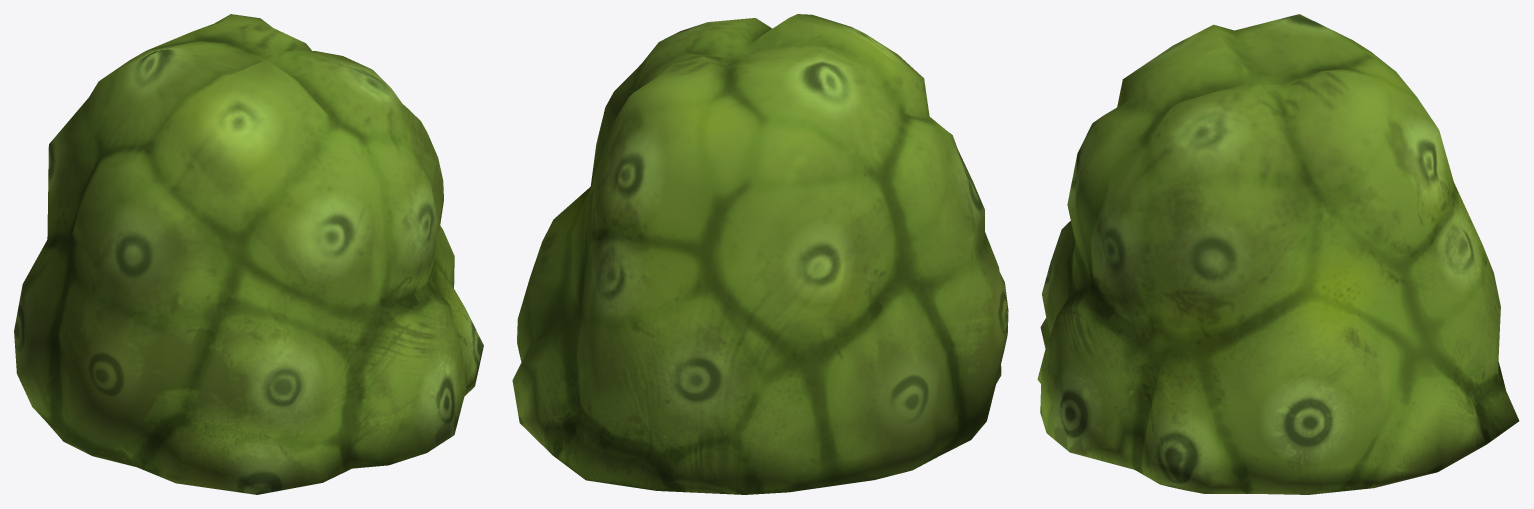
Rendered from NoniB.glb.
The picture shows the model from 3 angles, left to right: view 1: azimuth 30°, elevation 25°; view 2: azimuth 150°, elevation 25°; view 3: azimuth 270°, elevation 25°; orthographic projection. The views are drawn at different scales.
Parts seen in each view (by area): view 1: NoniB_Noni_0; view 2: NoniB_Noni_0; view 3: NoniB_Noni_0.
Part boxes in pixels (x1,y1,x2,y2): NoniB_Noni_0: (14,14,483,494); NoniB_Noni_0: (512,14,1008,494); NoniB_Noni_0: (1037,14,1519,494).
Size of the model in its own units: 0.6353 by 0.525 by 0.6542.
Materials: 1 (1 with a texture image).
